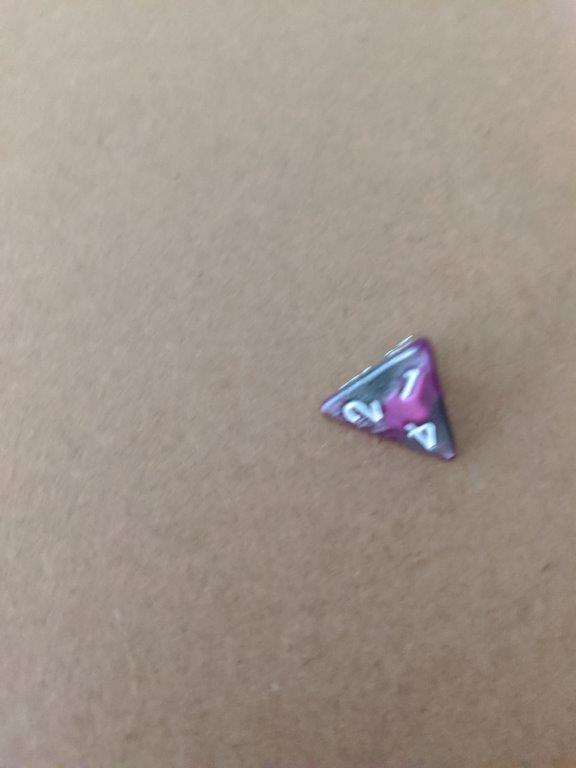d4-1: (322, 330, 464, 474)
